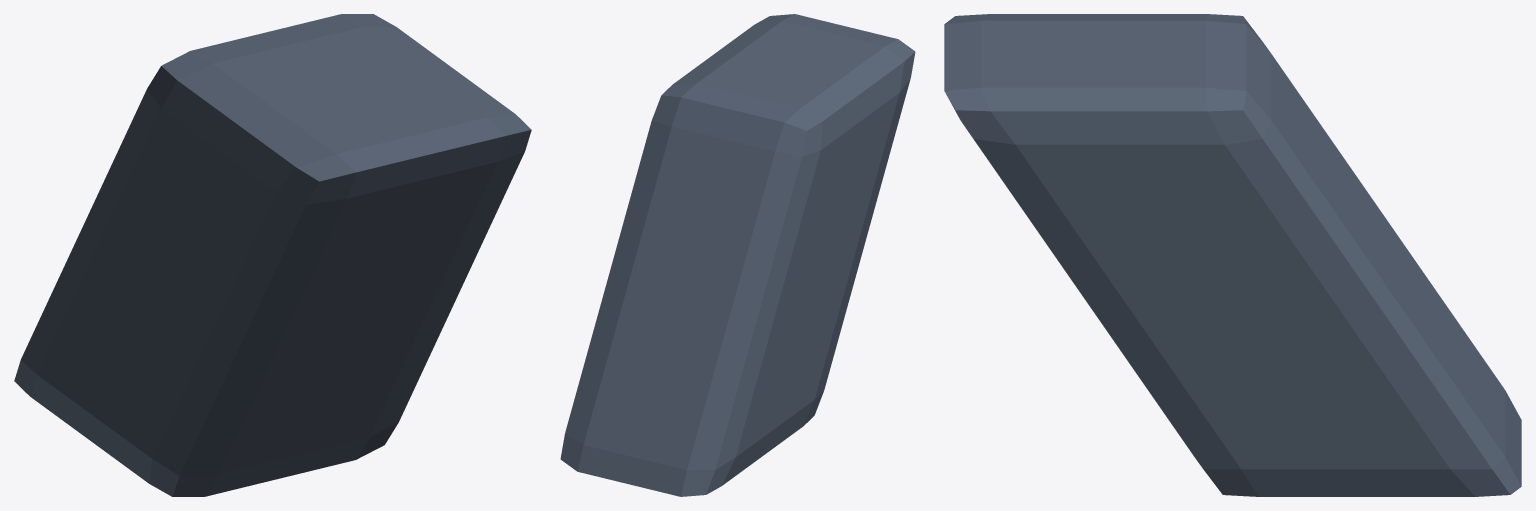
The model's file is left_shin__shin_spike__base.glb.
3 renders of one model, left to right at view 1: azimuth 30°, elevation 25°; view 2: azimuth 150°, elevation 25°; view 3: azimuth 270°, elevation 25°, orthographic. The views are drawn at different scales.
Parts seen in each view (by area): view 1: armor_left_shin__shin_spike__base_v001; view 2: armor_left_shin__shin_spike__base_v001; view 3: armor_left_shin__shin_spike__base_v001.
Part boxes in pixels (x1,y1,x2,y2): armor_left_shin__shin_spike__base_v001: [14, 14, 531, 496]; armor_left_shin__shin_spike__base_v001: [560, 14, 915, 496]; armor_left_shin__shin_spike__base_v001: [944, 14, 1521, 496].
Size of the model in its own units: 0.017 by 0.031 by 0.0403.
